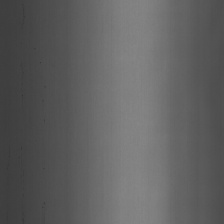silk_spot: (13, 62, 33, 110)
